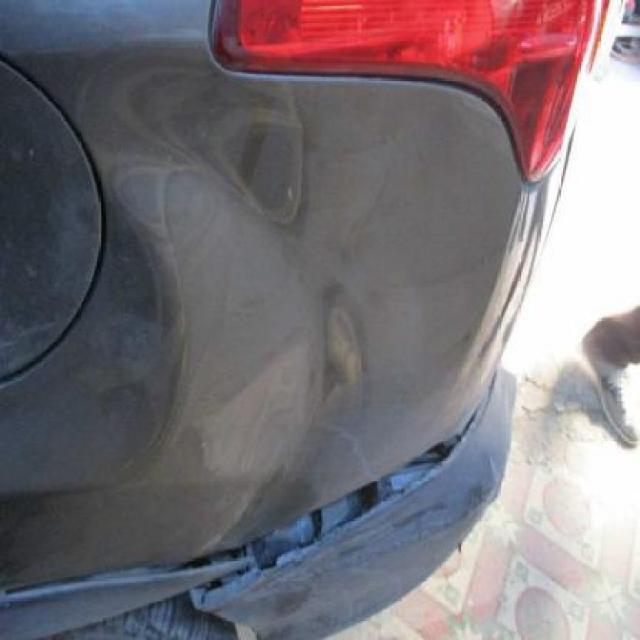car damage: (74, 29, 307, 242), (0, 264, 185, 504), (85, 179, 192, 397), (189, 454, 318, 573), (307, 279, 374, 408)
